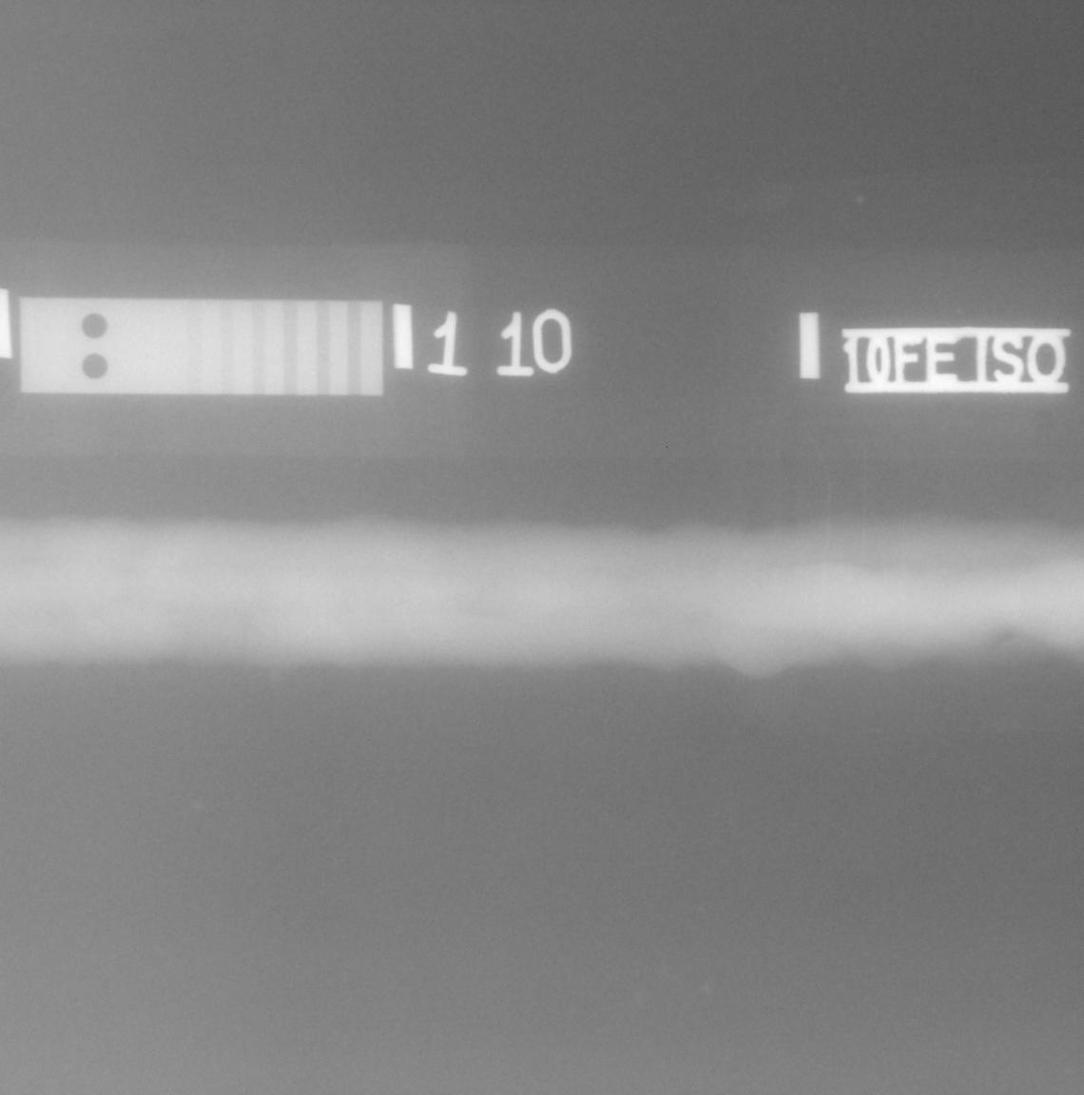Reference Standard 2: (18, 298, 382, 397)
